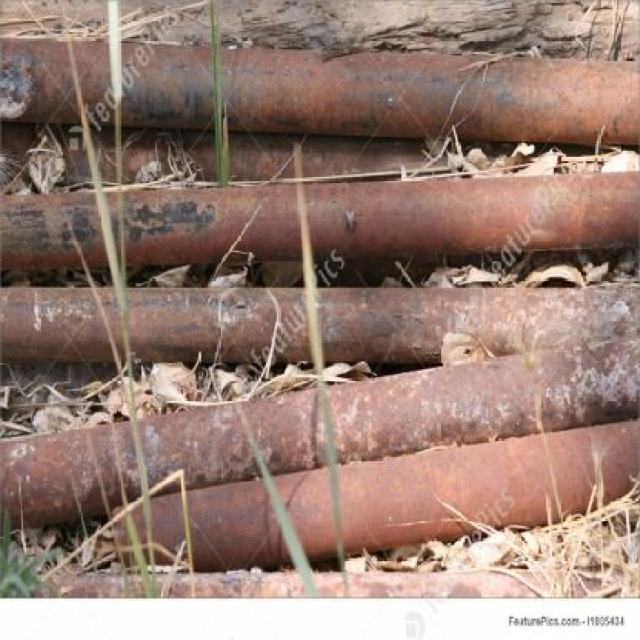corrosion: (0, 37, 638, 562)
